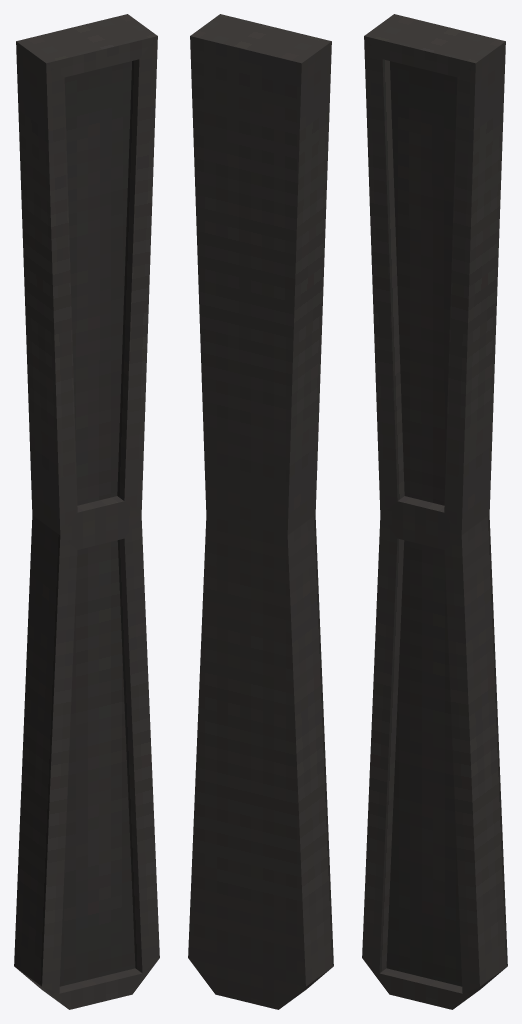
The model's file is connecting_rod.obj.
3 views of the same model, side by side, from view 1: azimuth 30°, elevation 25°; view 2: azimuth 150°, elevation 25°; view 3: azimuth 330°, elevation 25° (orthographic).
Parts seen in each view (by area): view 1: Куб; view 2: Куб; view 3: Куб.
Part boxes in pixels (x1,y1,x2,y2): Куб: [14, 14, 159, 1009]; Куб: [188, 14, 333, 1009]; Куб: [362, 14, 507, 1009].
Bounding box in the file's own units: 0.1687 × 1.3 × 0.0748.
